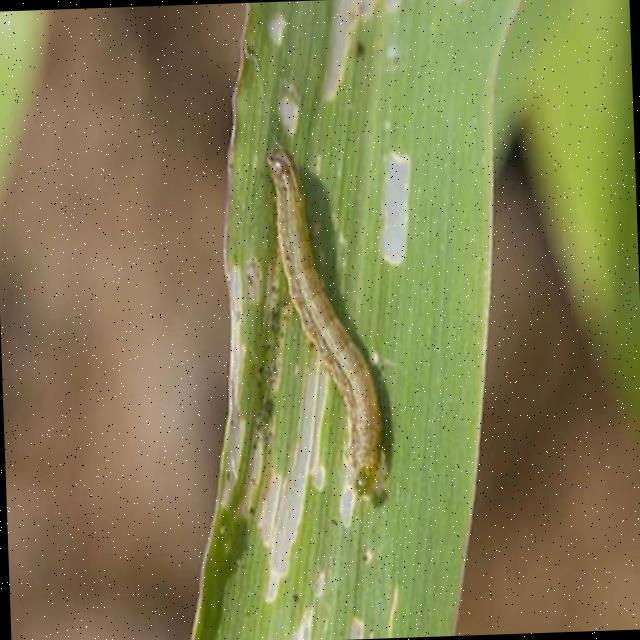worm: (266, 141, 396, 514)
